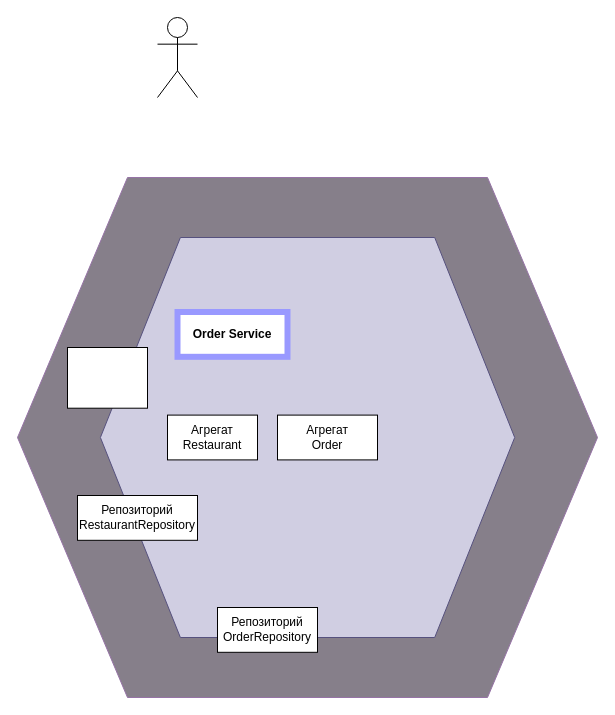
Some shapes in this 615 by 715 pixel diagram are drawn without their labels. The centre of each missing label's shape, as x and y in pixels:
Издатель доменных событий: pixel 107 377
Потребитель: pixel 177 57
